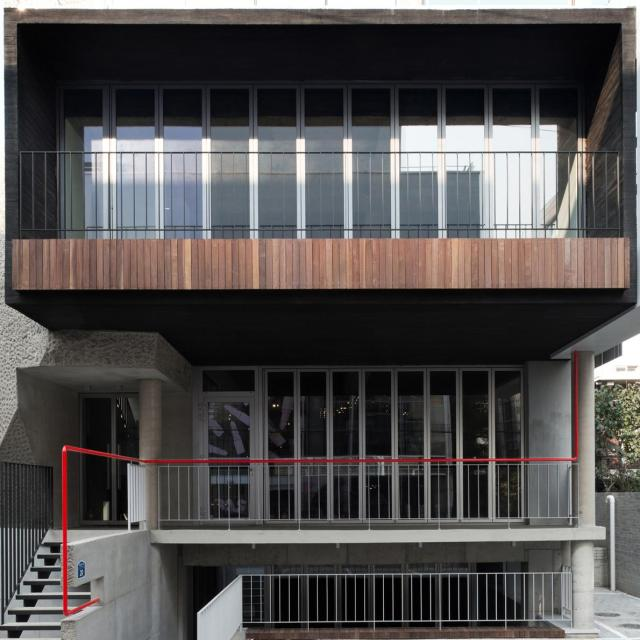door: (76, 393, 136, 527)
railing: (17, 147, 620, 240), (161, 466, 581, 525), (239, 575, 570, 629)
window: (52, 81, 582, 142), (192, 366, 525, 463)
